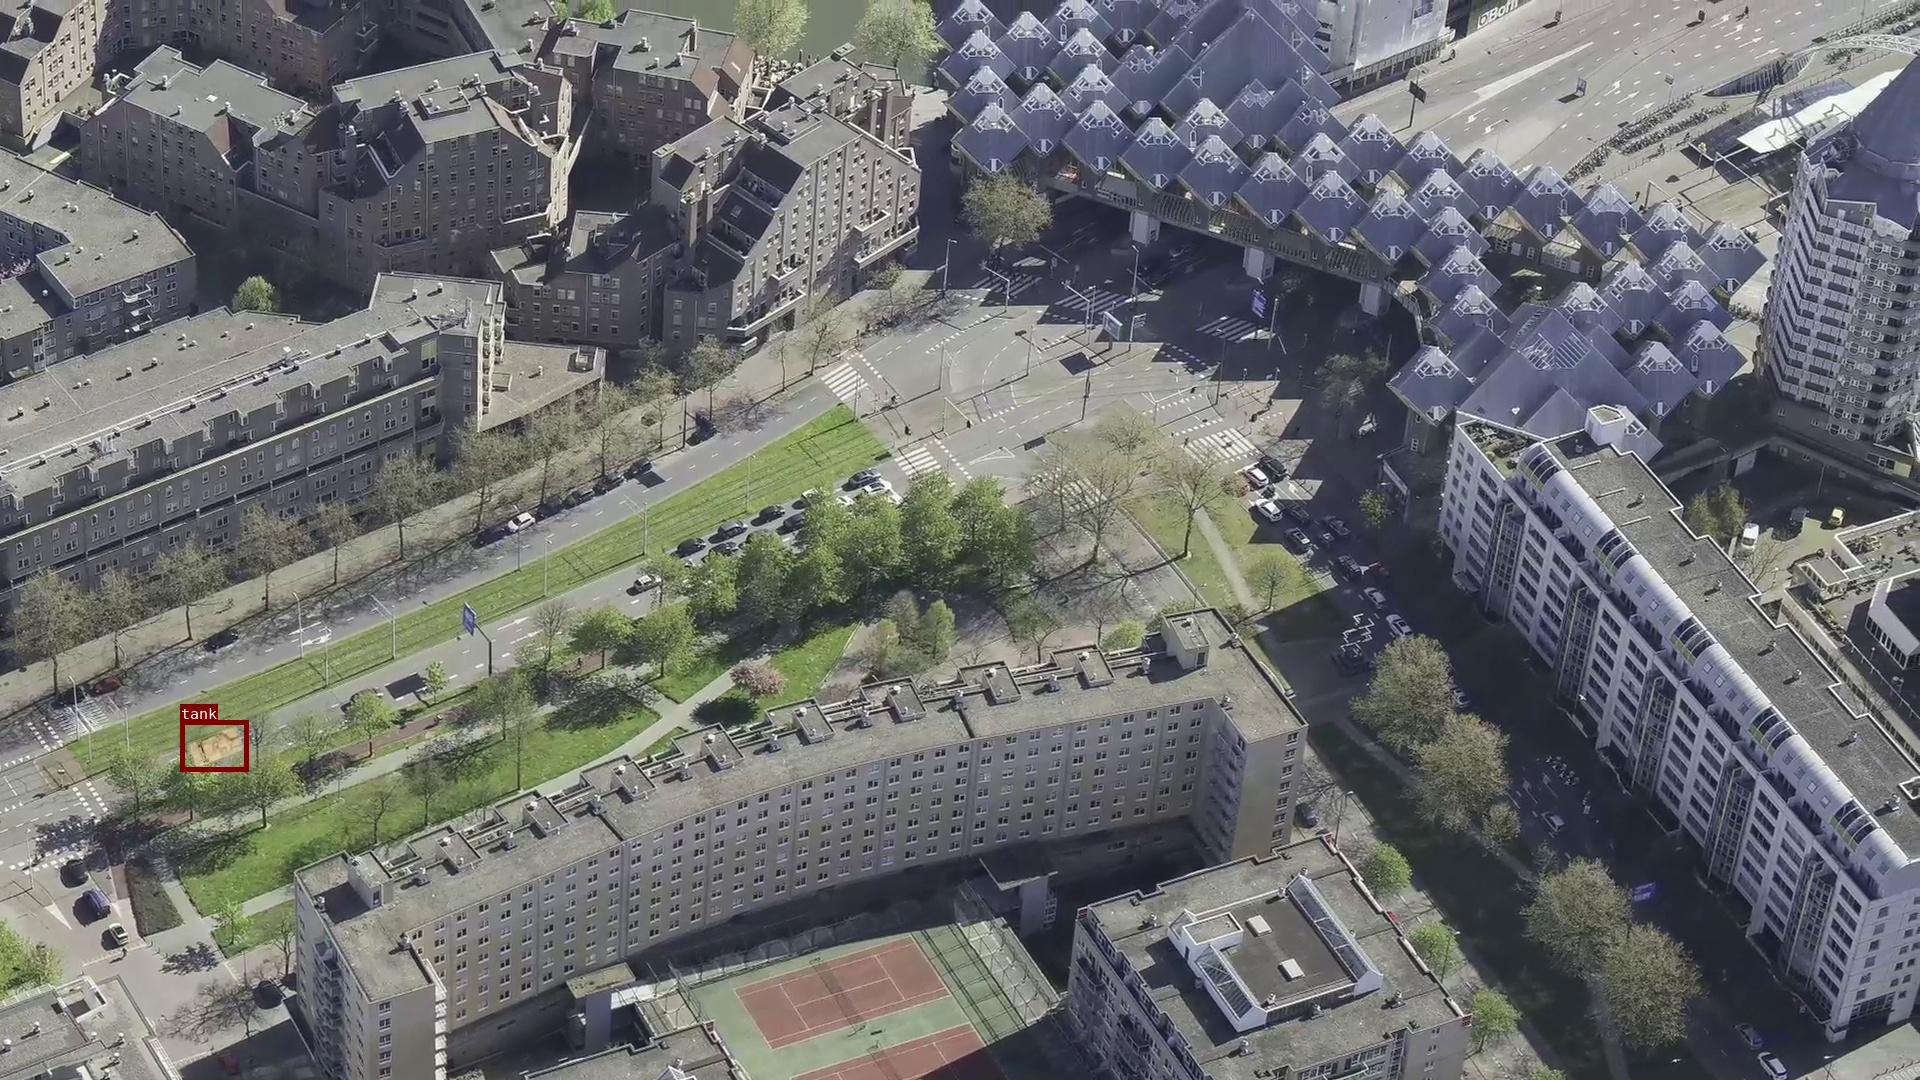tank: (179, 720, 248, 771)
